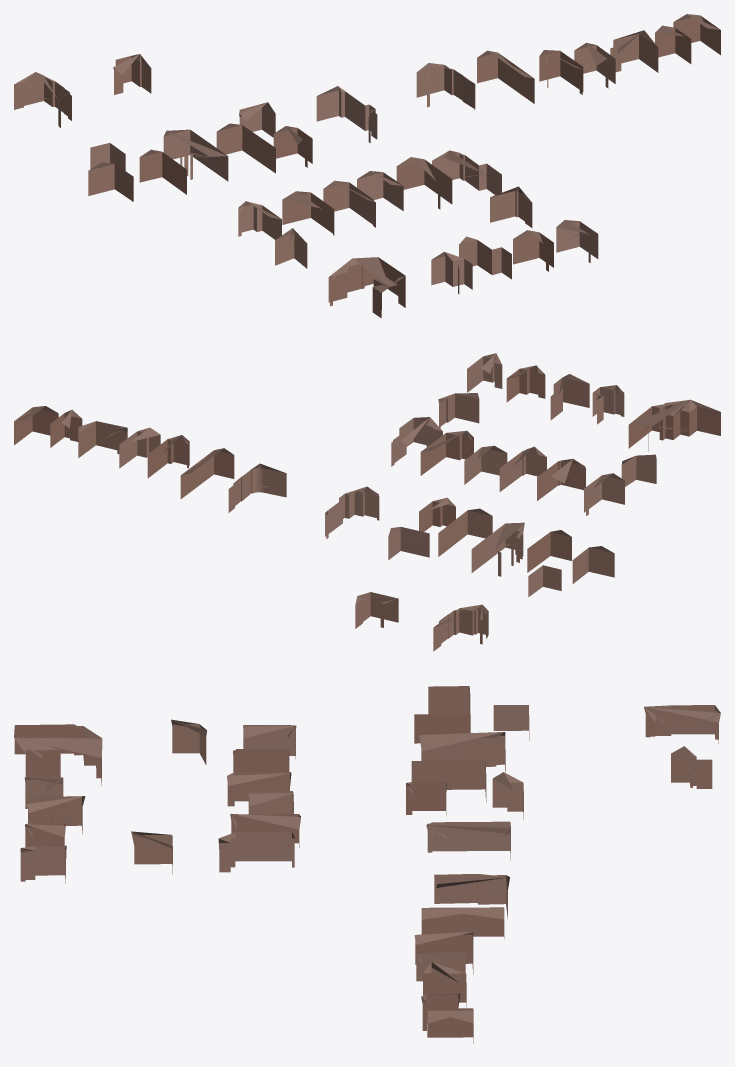
The model's file is c_1636_17834_buildings_residential.glb.
3 views of the same model, one above another, from view 1: azimuth 30°, elevation 25°; view 2: azimuth 150°, elevation 25°; view 3: azimuth 270°, elevation 25° (orthographic). The views are drawn at different scales.
Visible parts, largest first — view 1: geometry_0; view 2: geometry_0; view 3: geometry_0.
Boxes of the visible parts, bbox=[...] form: geometry_0: bbox=[14, 14, 720, 318]; geometry_0: bbox=[14, 353, 720, 651]; geometry_0: bbox=[14, 686, 720, 1043].
Size of the model in its own units: 227 by 12.39 by 198.
